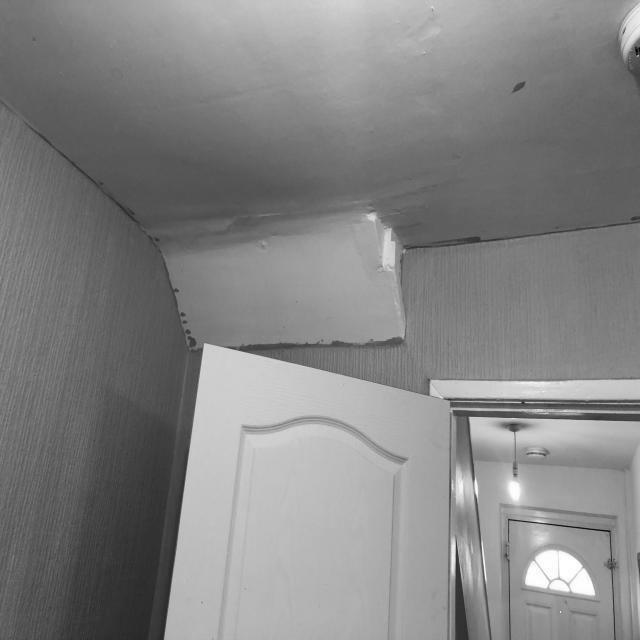stain marks: (167, 266, 206, 361), (402, 234, 488, 256), (498, 59, 542, 102)
